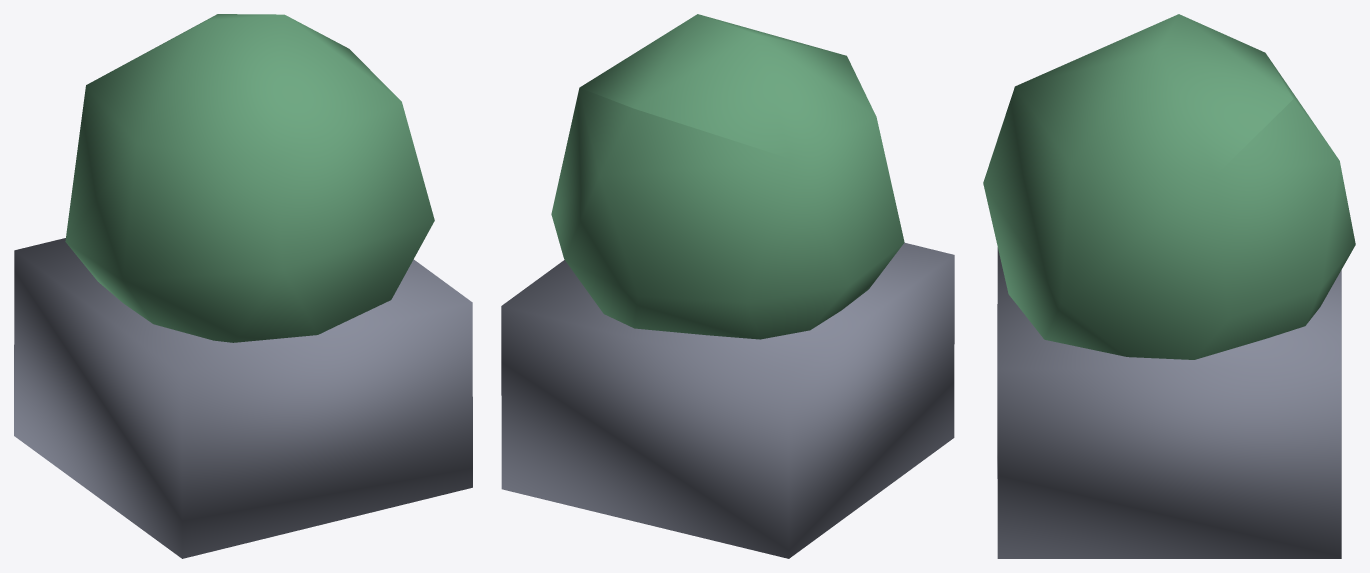
File: SM_Innenstadt_Planter_LOD3.fbx
3 views of the same model, side by side, from view 1: azimuth 30°, elevation 25°; view 2: azimuth 150°, elevation 25°; view 3: azimuth 270°, elevation 25° (orthographic). The views are drawn at different scales.
Visible parts, largest first — view 1: SM_Innenstadt_Planter_LOD3; view 2: SM_Innenstadt_Planter_LOD3; view 3: SM_Innenstadt_Planter_LOD3.
Boxes of the visible parts, x1,y1,x2,y2 form: SM_Innenstadt_Planter_LOD3: [14, 14, 472, 558]; SM_Innenstadt_Planter_LOD3: [501, 14, 954, 558]; SM_Innenstadt_Planter_LOD3: [983, 14, 1355, 558].
Size of the model in its own units: 1.32 by 1.87 by 1.39.
